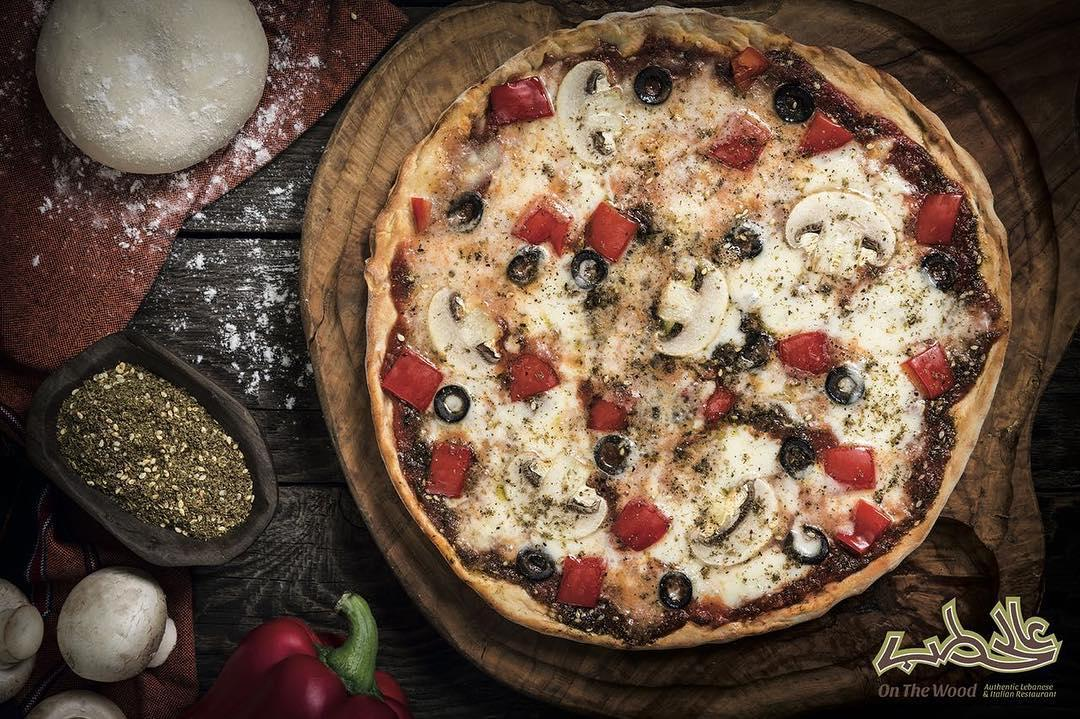Mushroom: (783, 190, 898, 283), (498, 447, 609, 536), (652, 255, 731, 354), (690, 478, 779, 565), (555, 60, 626, 167), (425, 288, 503, 374)
Olives: (738, 314, 772, 370), (434, 385, 474, 424), (920, 250, 958, 291), (825, 364, 865, 401), (720, 229, 763, 262), (570, 248, 606, 287), (769, 85, 809, 119), (594, 435, 631, 471), (658, 570, 692, 608), (445, 194, 479, 231), (788, 525, 825, 559), (777, 435, 812, 470), (635, 68, 672, 101), (508, 252, 542, 285), (518, 548, 551, 580), (624, 205, 650, 240), (585, 287, 621, 310)
Pizza: (364, 8, 1012, 647)
Tomatoes: (384, 348, 441, 416), (708, 113, 771, 168), (515, 199, 571, 252), (913, 185, 959, 249), (490, 78, 548, 127), (585, 202, 634, 260), (903, 339, 951, 398), (837, 497, 891, 549), (505, 353, 561, 402), (794, 113, 852, 157), (613, 500, 664, 549), (560, 555, 605, 603), (428, 445, 468, 498), (825, 444, 873, 487), (778, 333, 827, 371), (590, 400, 621, 431), (407, 195, 432, 230), (733, 45, 762, 75), (703, 385, 729, 416)
